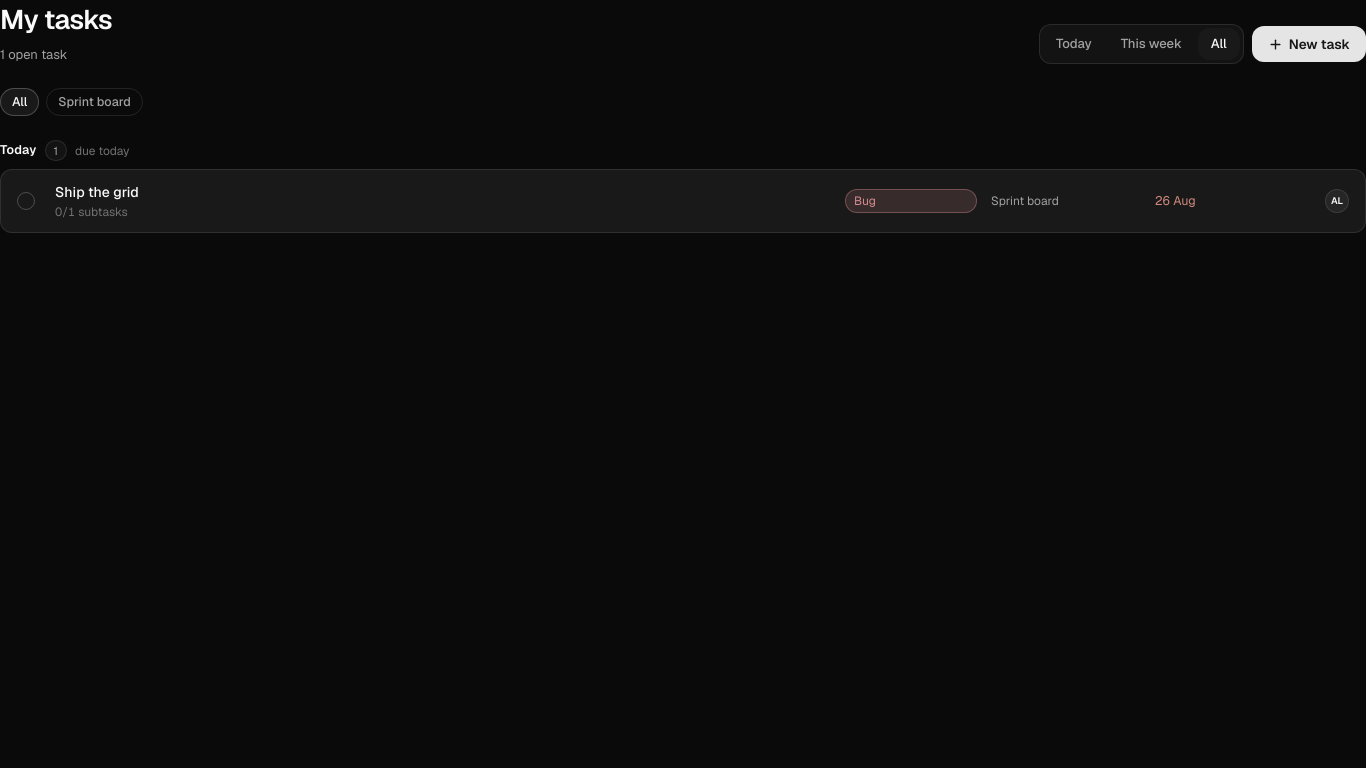
MyTasksView › completes from the circle without opening detail, and opens detail from the row
Click the button named "Mark as completed" at {"x": 26, "y": 201}, box [17,192,35,210]
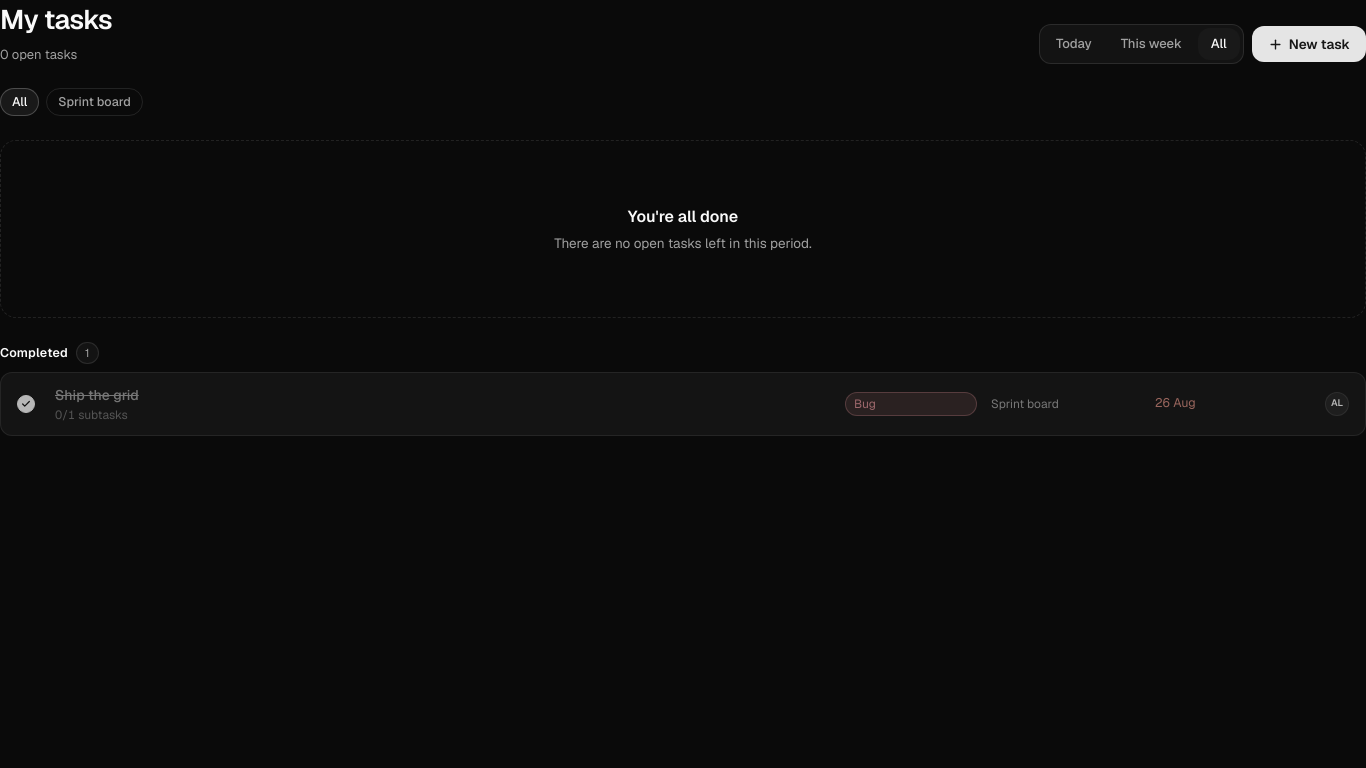
Check: the dialog "Task detail" is not shown
Click the text "Ship the grid" at {"x": 97, "y": 394}, box [55,386,139,404]
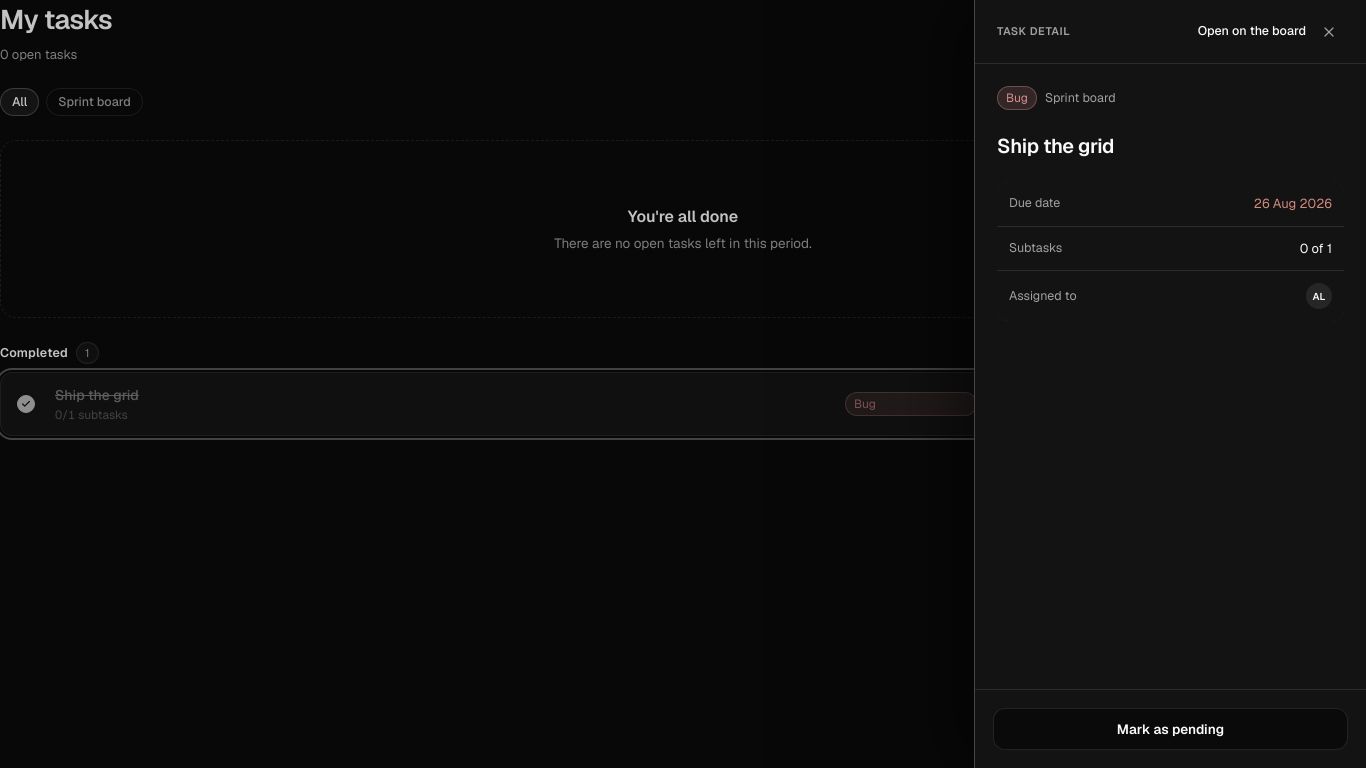
Check: the dialog "Task detail" is shown, box [974,0,1365,767]
